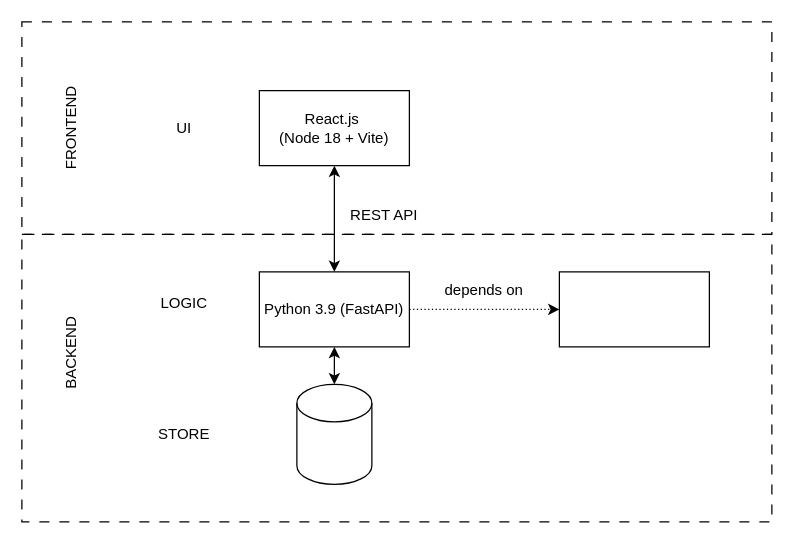
Image size: 794x544. Some labels were removed from this diagram. Here are the shapes that lost their labels. From the top down, the box of each, then its label:
(558, 271, 709, 347): openai/whisper-tiny
(296, 383, 372, 484): SQLite
